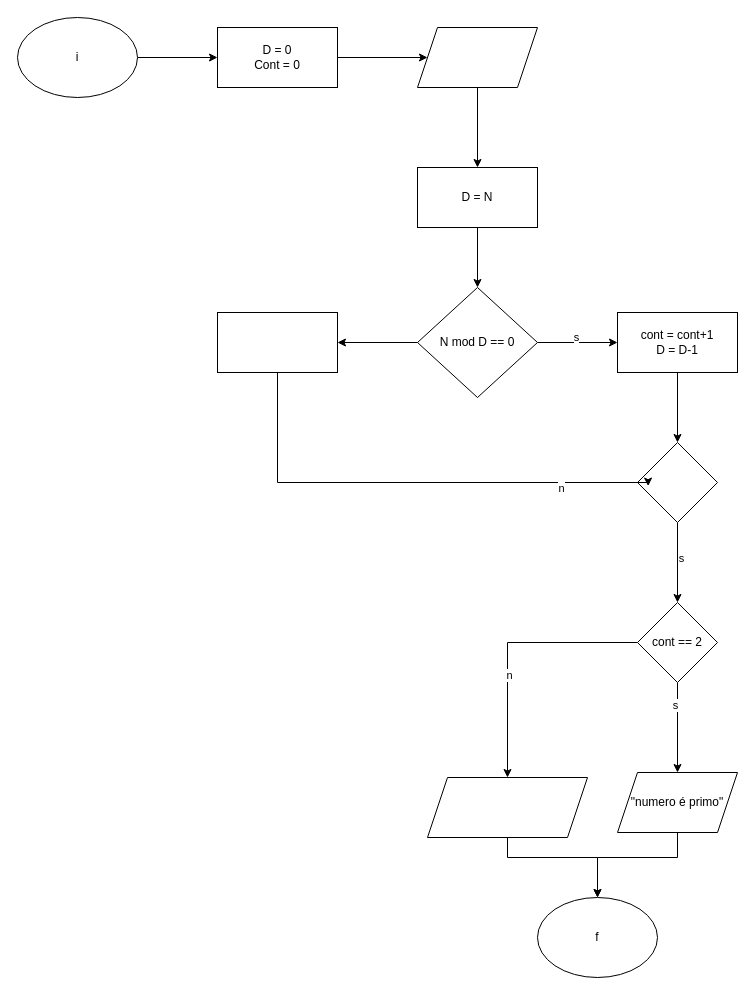
Image size: 755x995. Some labels were removed from this diagram. The centre of each missing label's shape, as x and y in pixels:
"numero nao é primo": [507,807]
d = d -1: [277,342]
D == 0: [677,482]
ler n: [477,57]
